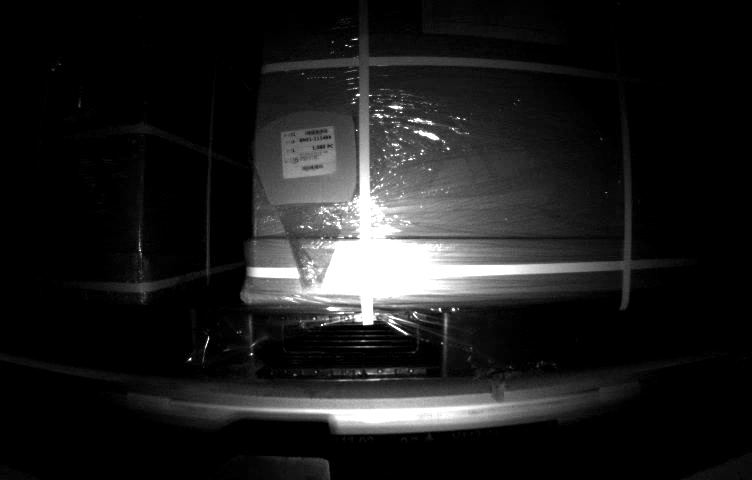True Barcode: (276, 126, 337, 177)
